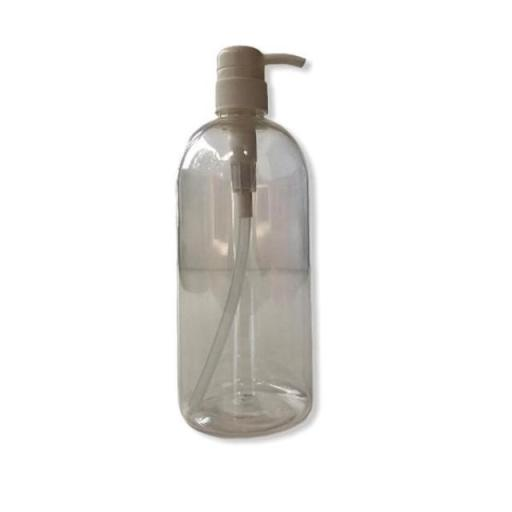plastic: (160, 39, 336, 453)
